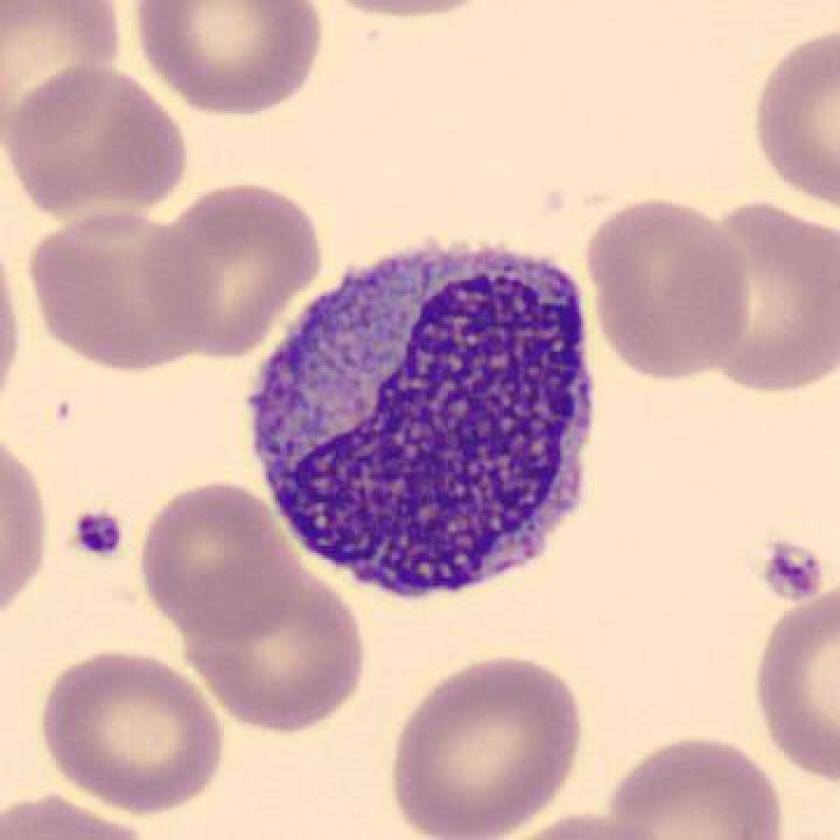monocyte: (232, 225, 622, 612)
